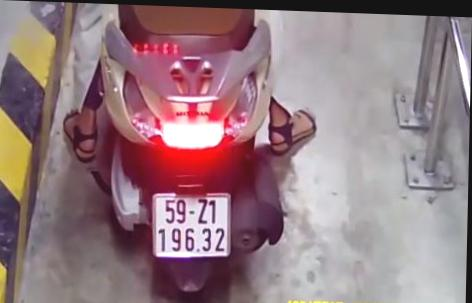License_Plate: (137, 186, 243, 264)
